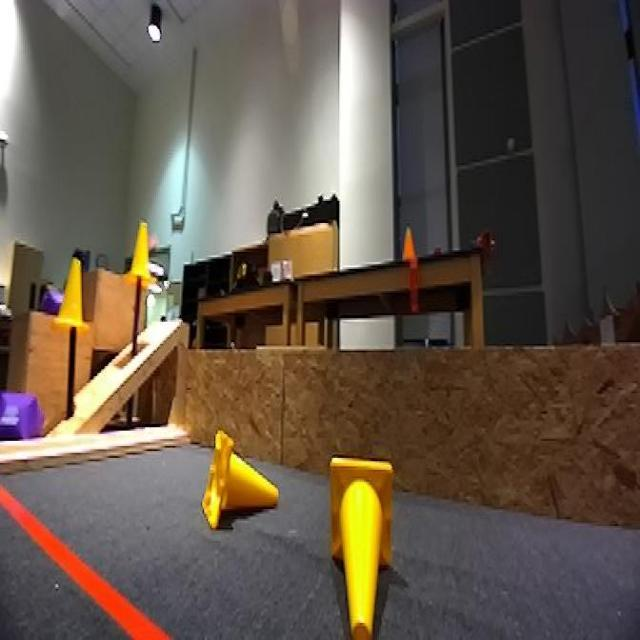frc_cone: (328, 453, 397, 640), (199, 434, 278, 536), (57, 254, 90, 337), (129, 225, 161, 301)
frc_cube: (0, 388, 38, 451), (32, 288, 68, 313)
